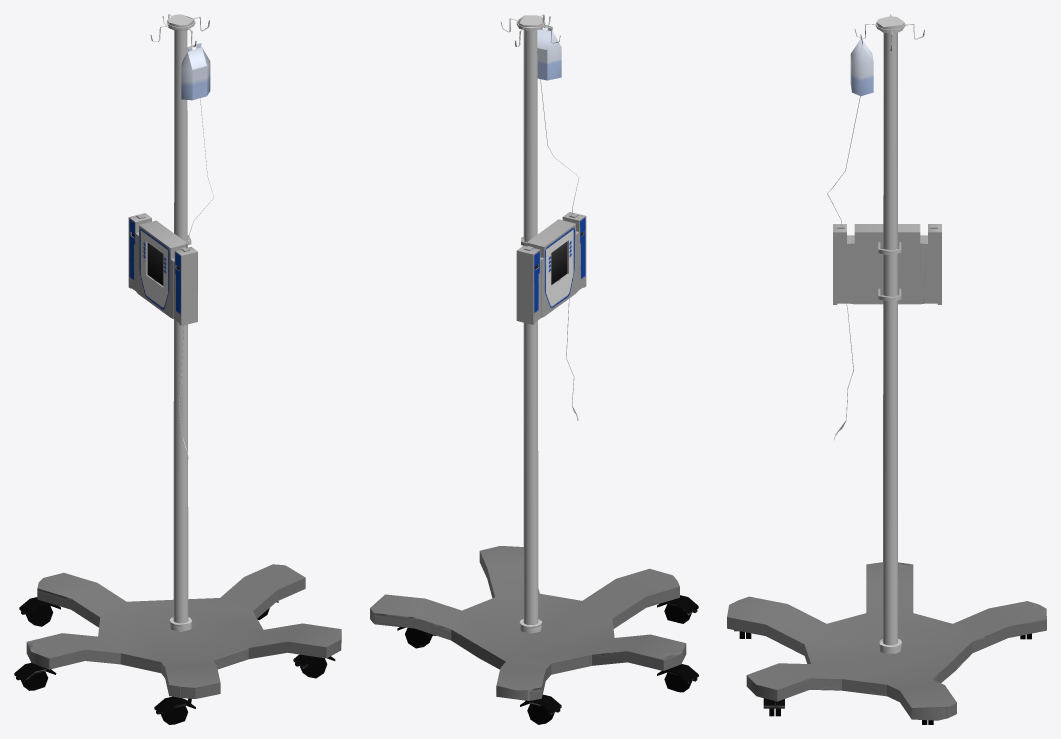
Rendered from suero_ps1.glb.
The picture shows the model from 3 angles, left to right: view 1: azimuth 30°, elevation 25°; view 2: azimuth 150°, elevation 25°; view 3: azimuth 270°, elevation 25°; orthographic projection. The views are drawn at different scales.
Parts seen in each view (by area): view 1: Cylinder001; view 2: Cylinder001; view 3: Cylinder001.
Part boxes in pixels (x1,y1,x2,y2): Cylinder001: (14,14,341,724); Cylinder001: (370,14,698,724); Cylinder001: (727,14,1046,724).
Size of the model in its own units: 0.5583 by 1.12 by 0.4961.
1 material, 1 textured.
